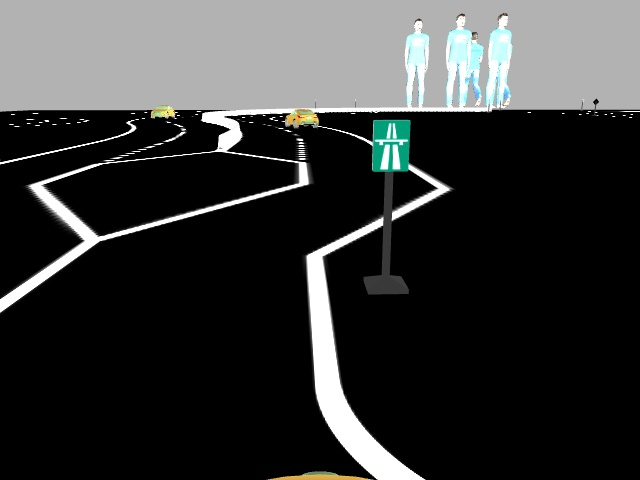HighwayEntrance: (369, 117, 413, 173)
